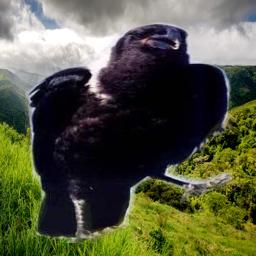Crow: (25, 22, 232, 243)
